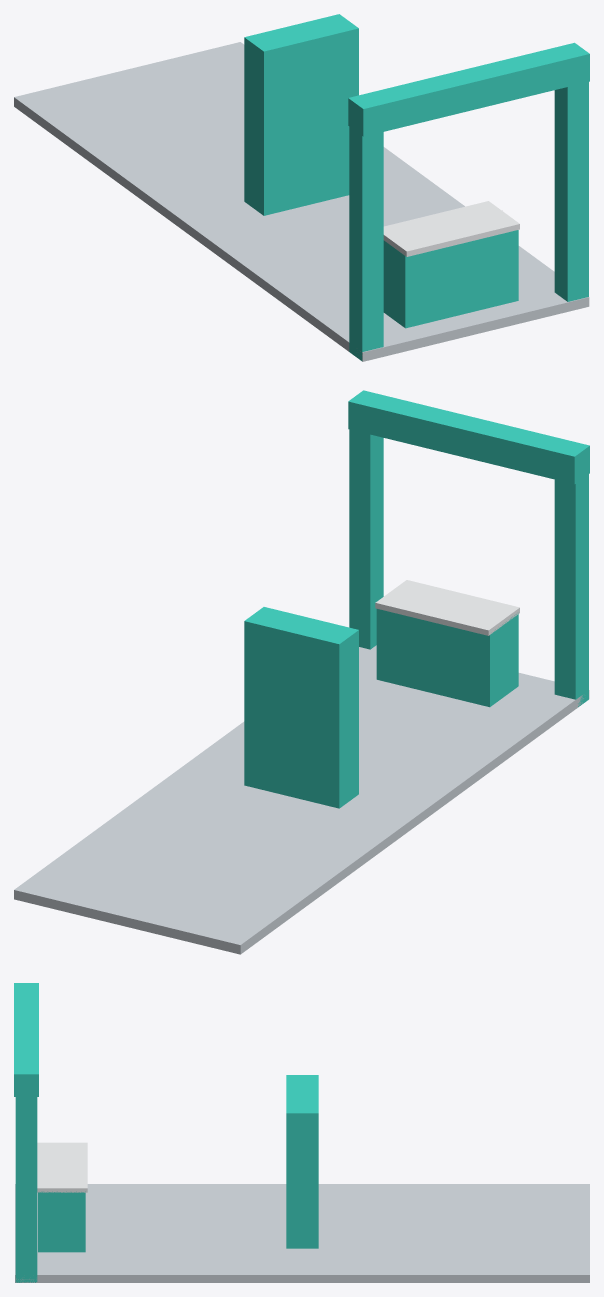
3 renders of one model, top to bottom at view 1: azimuth 30°, elevation 25°; view 2: azimuth 150°, elevation 25°; view 3: azimuth 270°, elevation 25°, orthographic. The views are drawn at different scales.
Parts seen in each view (by area): view 1: Exhibition Booth Concept; view 2: Exhibition Booth Concept; view 3: Exhibition Booth Concept.
Boxes of the visible parts, x1,y1,x2,y2 form: Exhibition Booth Concept: (14, 14, 589, 361); Exhibition Booth Concept: (14, 390, 589, 954); Exhibition Booth Concept: (14, 983, 589, 1282).
Bounding box in the file's own units: 3 × 3.2 × 8.01.
